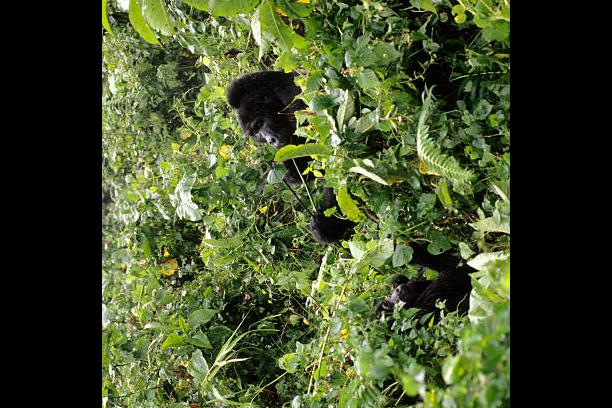goriile_montagne: (223, 63, 301, 155)
